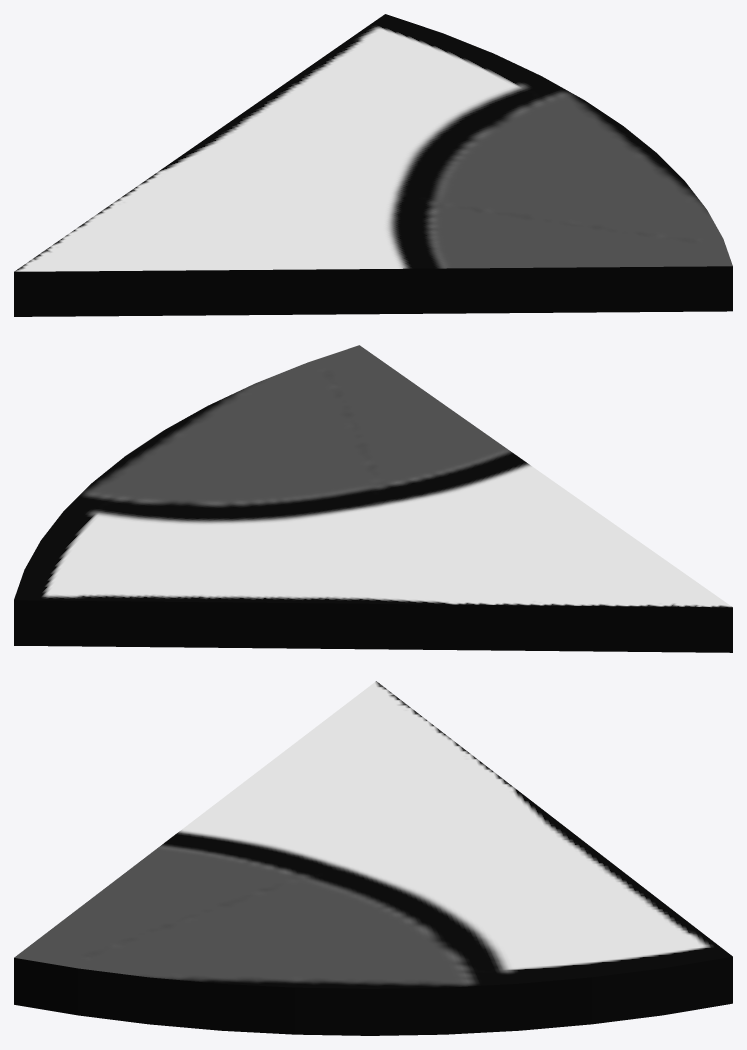
Rendered from FlatlanderEye2.fbx.
3 renders of one model, top to bottom at view 1: azimuth 30°, elevation 25°; view 2: azimuth 150°, elevation 25°; view 3: azimuth 270°, elevation 25°, orthographic. The views are drawn at different scales.
Parts seen in each view (by area): view 1: FlatlanderEye; view 2: FlatlanderEye; view 3: FlatlanderEye.
Boxes of the visible parts, <box> form: FlatlanderEye: <box>14,14,732,316</box>; FlatlanderEye: <box>14,345,732,652</box>; FlatlanderEye: <box>14,681,732,1035</box>.
Bounding box in the file's own units: 95.34 × 6.78 × 94.06.
1 material, 1 textured.
